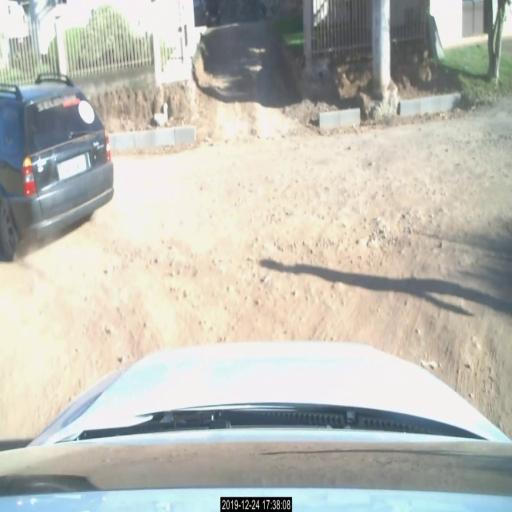Pothole: (149, 178, 423, 272)
